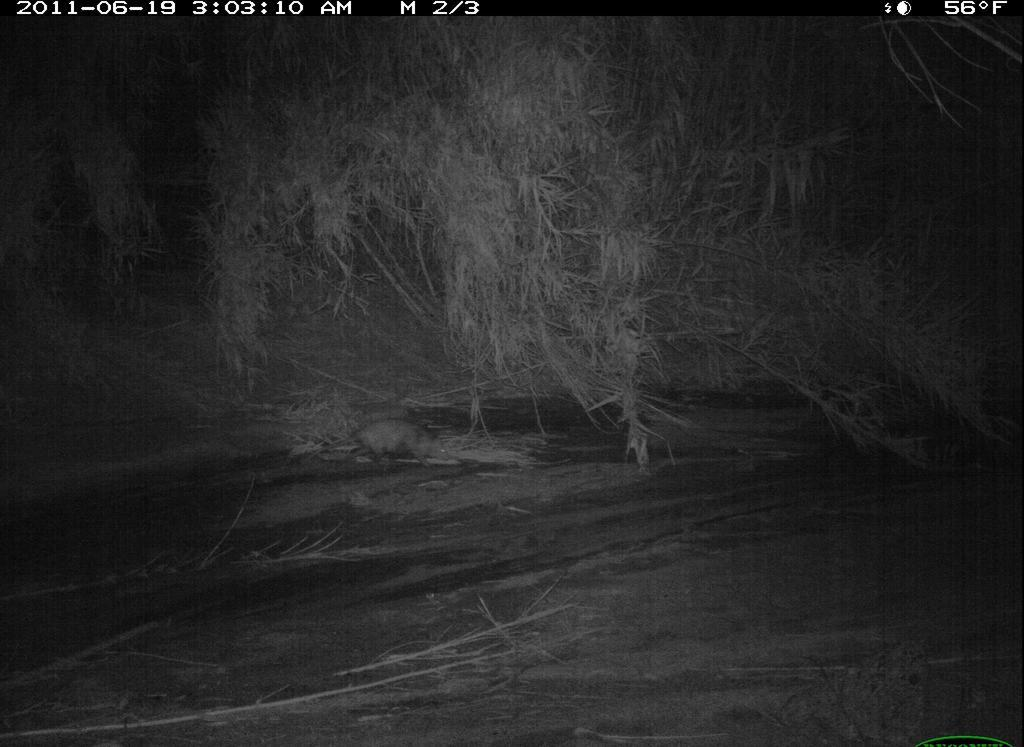opossum: (282, 410, 480, 488)
